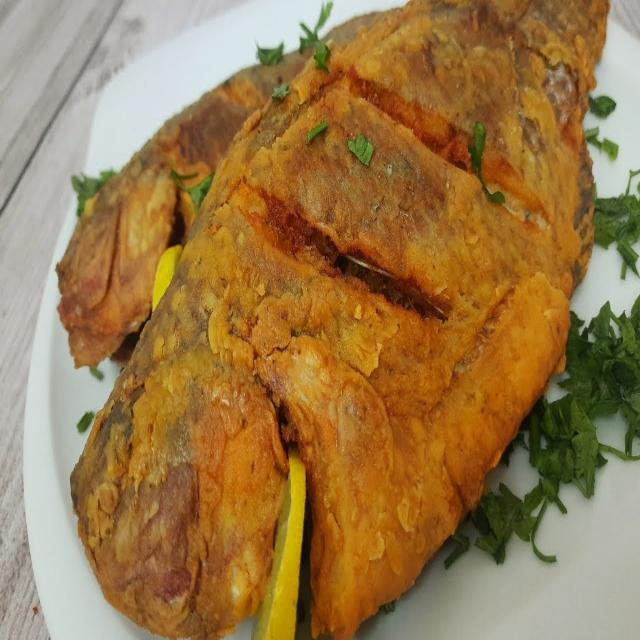Peixe: (60, 1, 610, 636), (251, 270, 571, 638)
